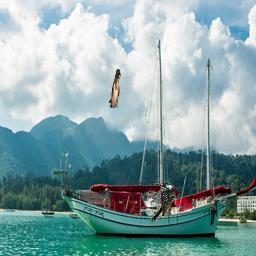Swallow: (109, 69, 121, 108)
Woodpecker: (146, 183, 174, 222)
